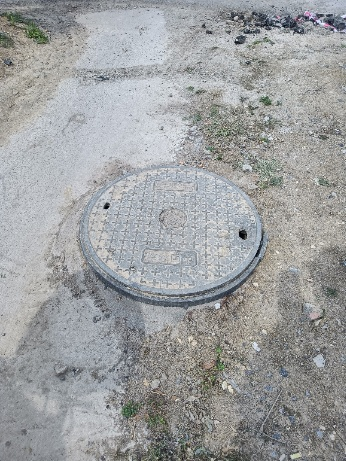good: (80, 165, 268, 306)
